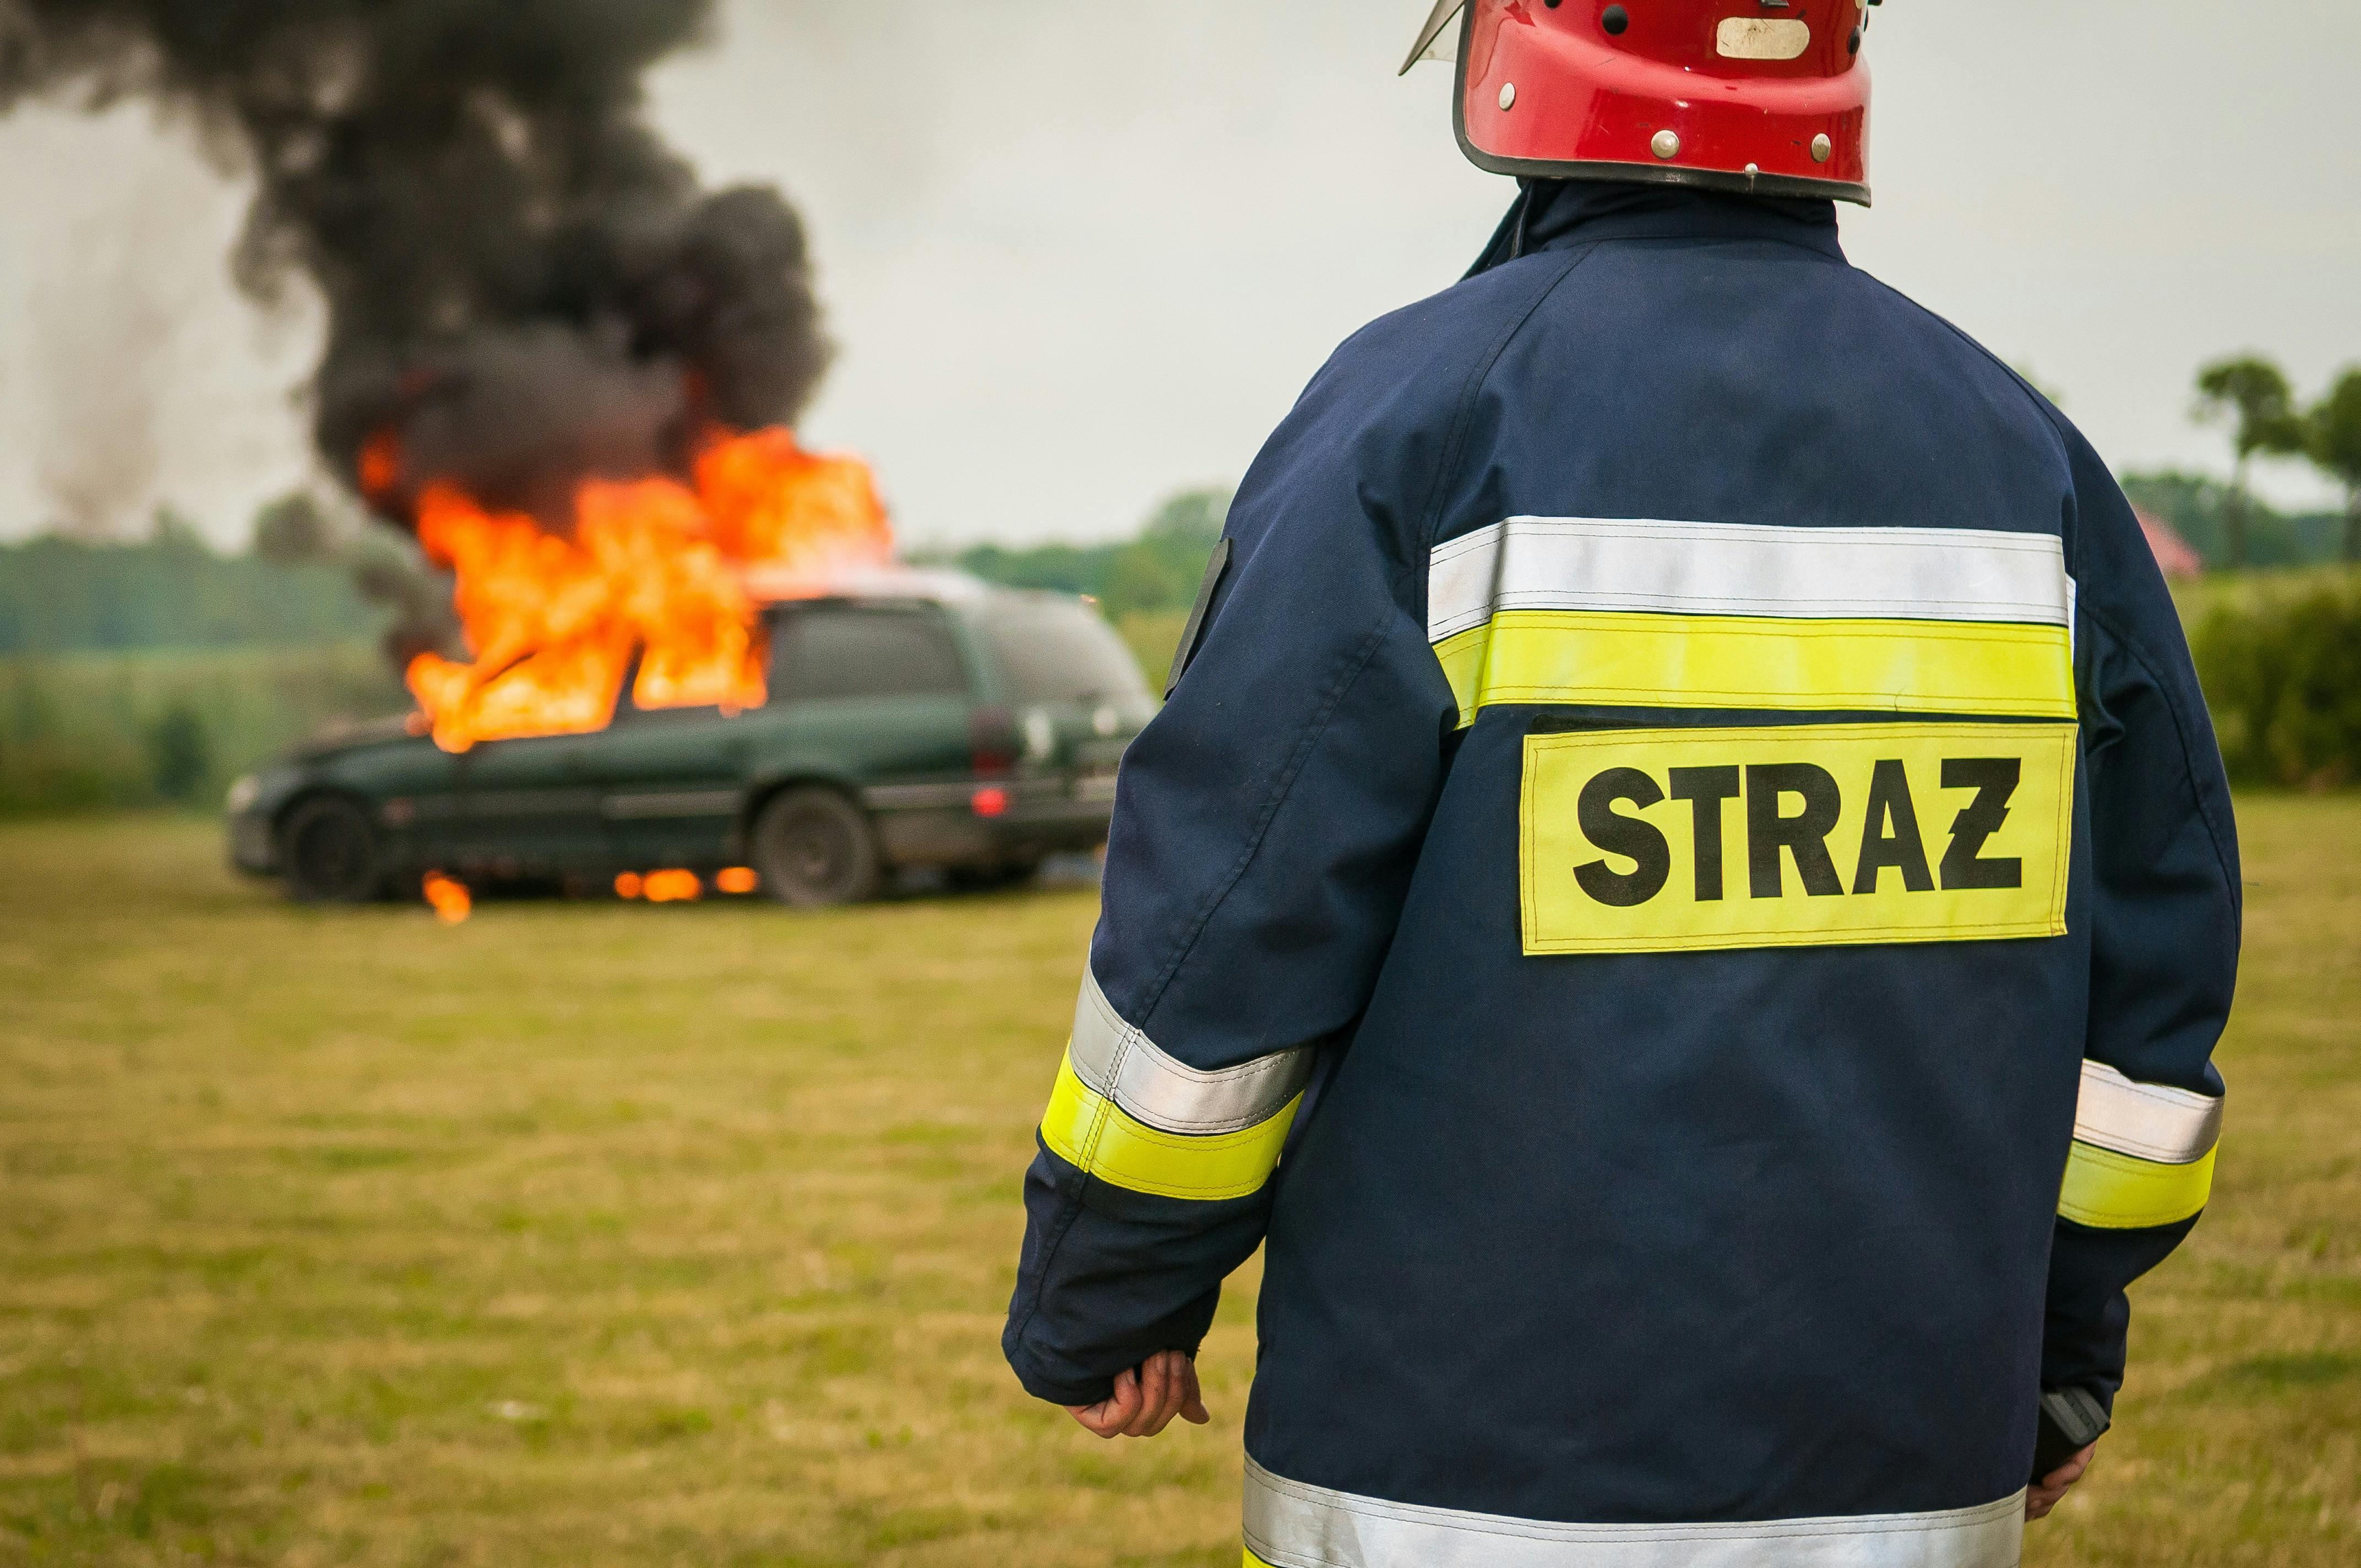smoke: (334, 416, 887, 744)
